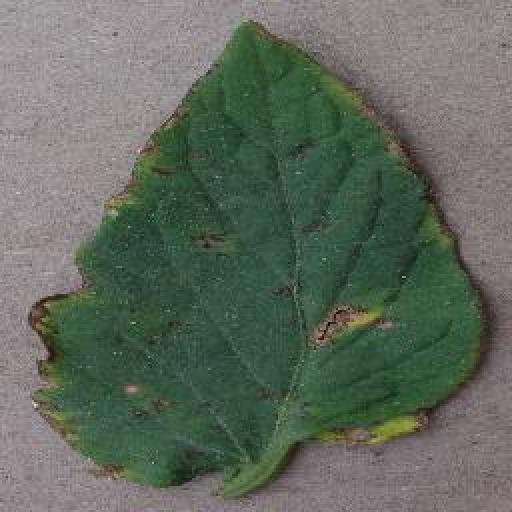Bacterial Spot: (26, 11, 486, 492)
